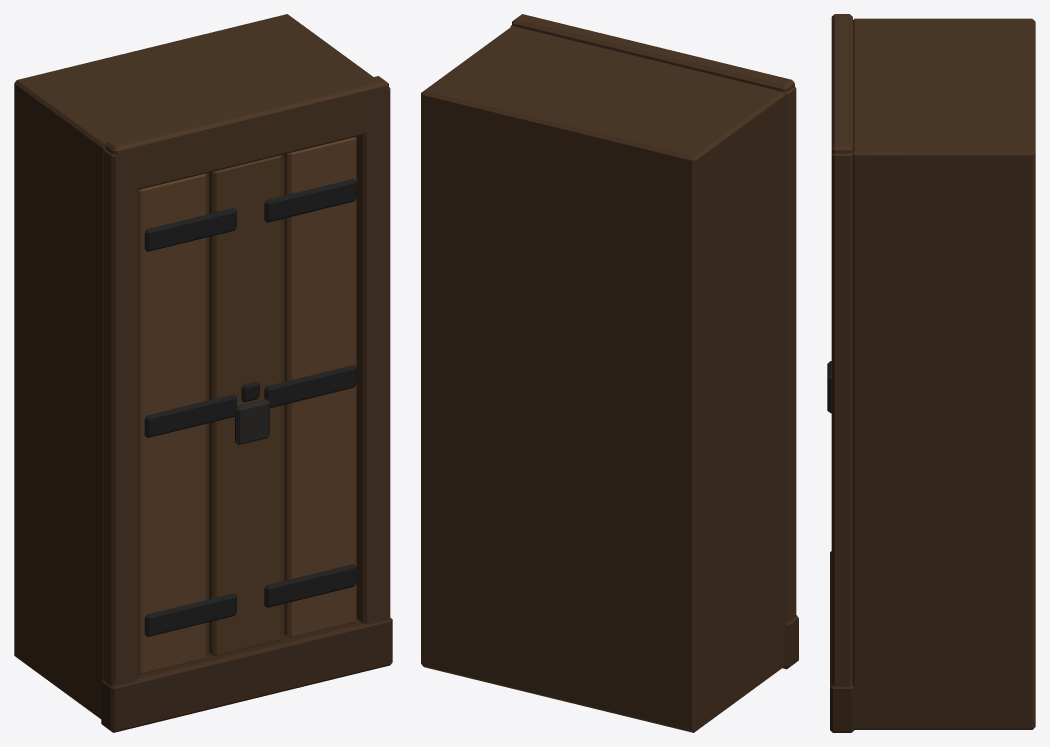
3 renders of one model, left to right at view 1: azimuth 30°, elevation 25°; view 2: azimuth 150°, elevation 25°; view 3: azimuth 270°, elevation 25°, orthographic.
Visible parts, largest first — view 1: tool_cupboard; view 2: tool_cupboard; view 3: tool_cupboard.
Boxes of the visible parts, x1,y1,x2,y2 form: tool_cupboard: (14,14,392,732); tool_cupboard: (421,14,798,732); tool_cupboard: (827,14,1035,732).
Size of the model in its own units: 0.92 by 1.82 by 0.587.
